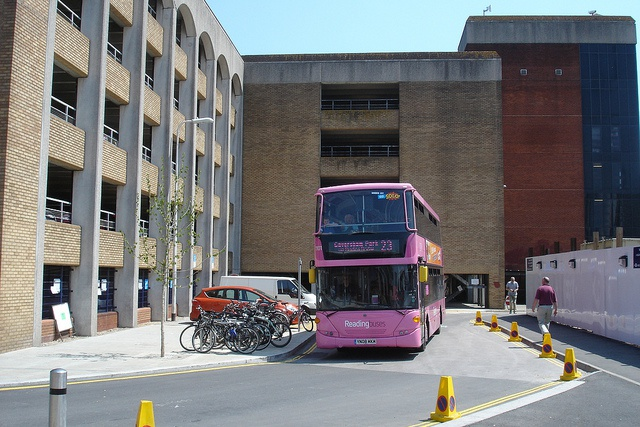non-vehicle: (192, 314, 259, 353), (248, 309, 290, 347), (279, 302, 313, 331), (218, 301, 250, 325), (258, 304, 290, 325), (250, 323, 271, 350)
